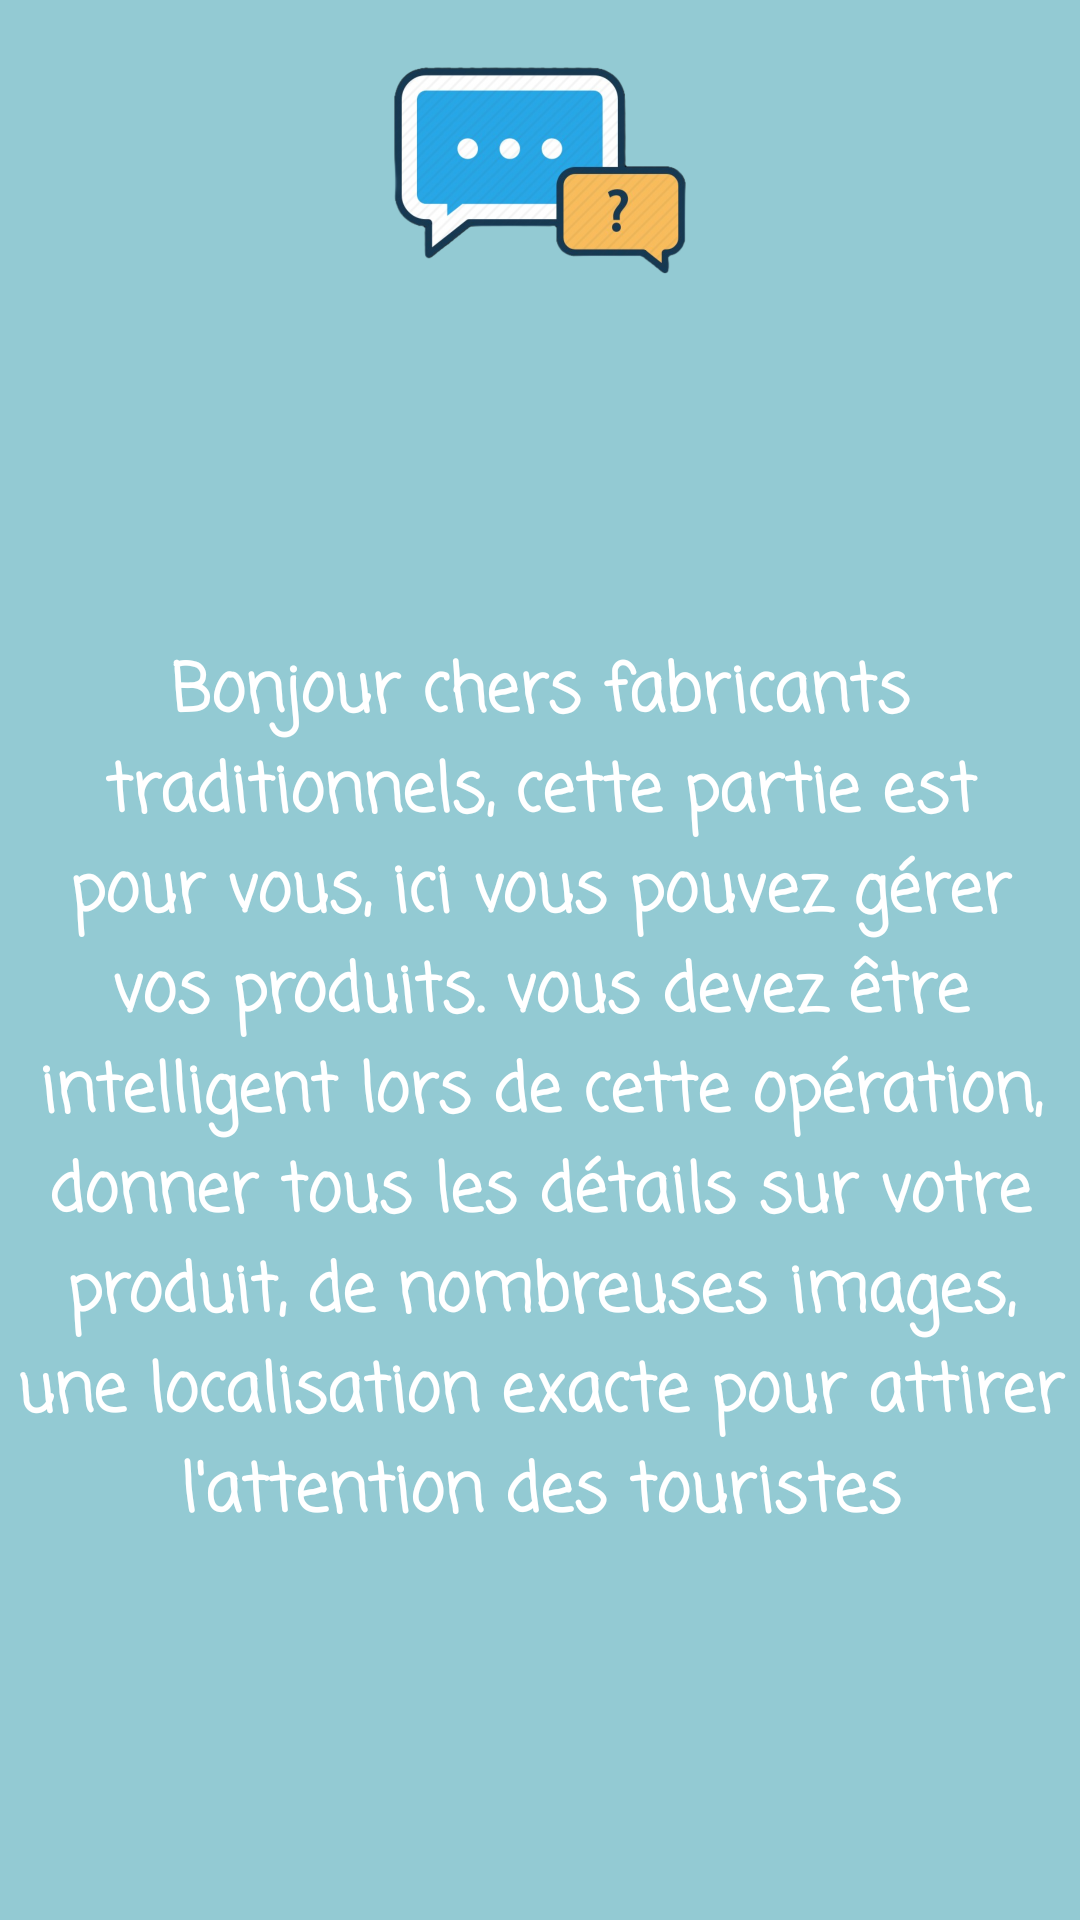

Icons on this 1080x1920 Android screen, each with its box as [x1,y1,x2,y2]:
clarific: [394,67,686,273]
